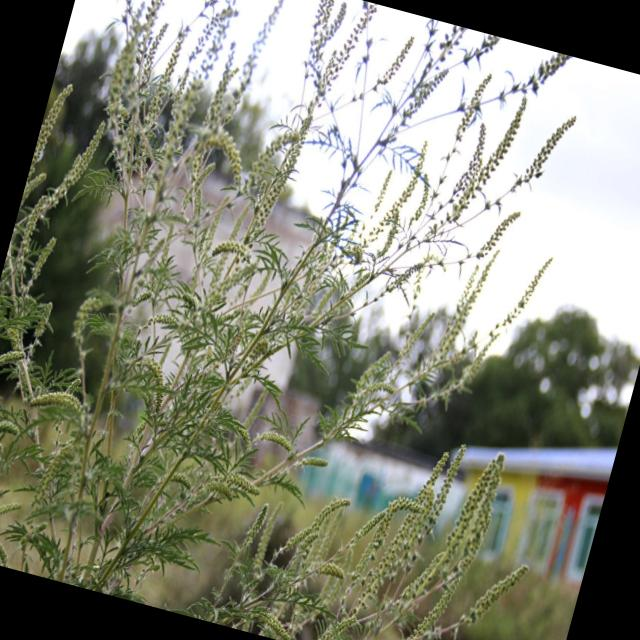ambrosia: (235, 0, 425, 293), (344, 425, 555, 640), (0, 305, 161, 566), (88, 0, 254, 207), (405, 91, 561, 304), (0, 63, 123, 328), (204, 473, 360, 638)
